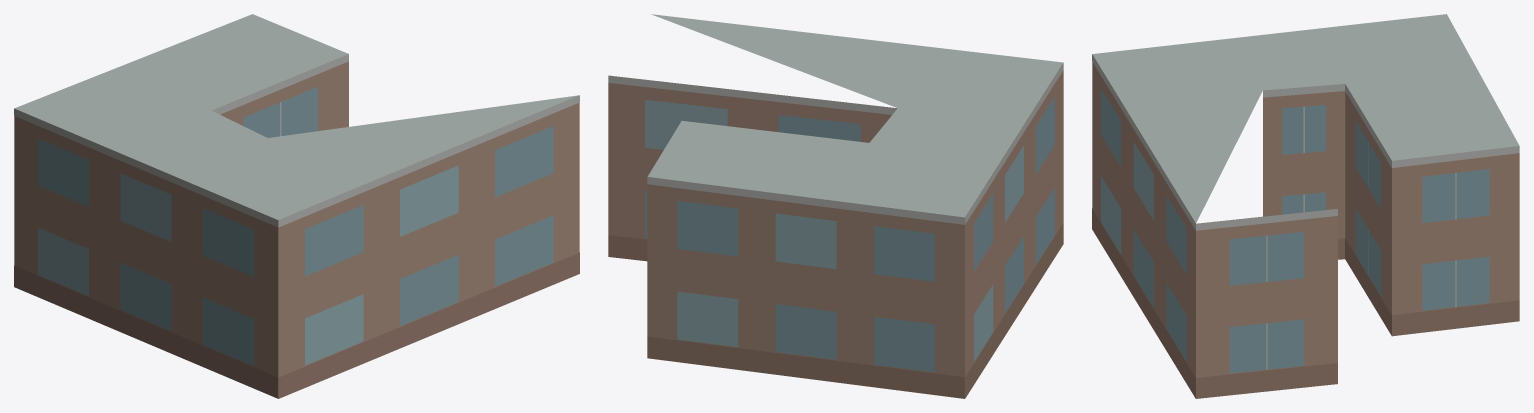
Rendered from survey-upis-32767729.glb.
3 views of the same model, side by side, from view 1: azimuth 30°, elevation 25°; view 2: azimuth 150°, elevation 25°; view 3: azimuth 270°, elevation 25° (orthographic). The views are drawn at different scales.
Parts seen in each view (by area): view 1: survey-upis-32767729.tmp; view 2: survey-upis-32767729.tmp; view 3: survey-upis-32767729.tmp.
Part boxes in pixels (bbox=[...]): survey-upis-32767729.tmp: bbox=[14, 14, 579, 398]; survey-upis-32767729.tmp: bbox=[608, 14, 1063, 398]; survey-upis-32767729.tmp: bbox=[1092, 14, 1519, 398].
Size of the model in its own units: 15.4 by 6 by 13.28.
